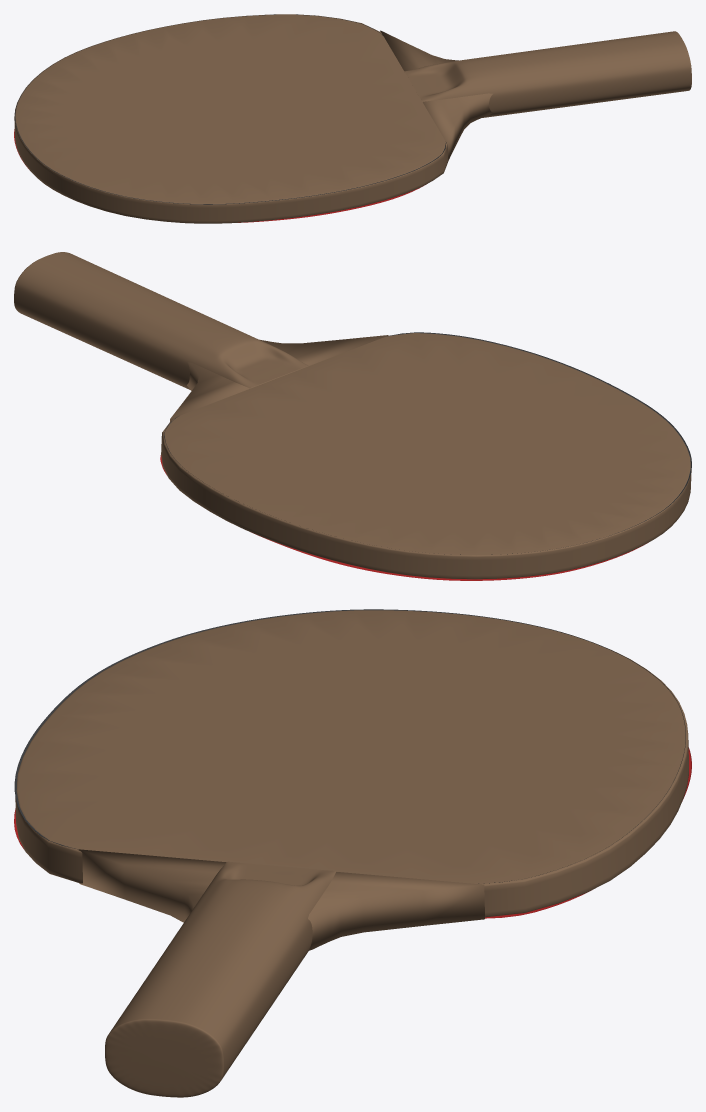
Rendered from table_tennis_racket.gltf.
3 renders of one model, top to bottom at view 1: azimuth 30°, elevation 25°; view 2: azimuth 150°, elevation 25°; view 3: azimuth 270°, elevation 25°, orthographic. The views are drawn at different scales.
Visible parts, largest first — view 1: raquet.001; view 2: raquet.001; view 3: raquet.001.
Boxes of the visible parts, x1=… form: raquet.001: x1=14, y1=14, x2=691, y2=223; raquet.001: x1=14, y1=252, x2=691, y2=580; raquet.001: x1=14, y1=609, x2=691, y2=1097.
Bounding box in the file's own units: 0.4556 × 0.0377 × 0.2805.
